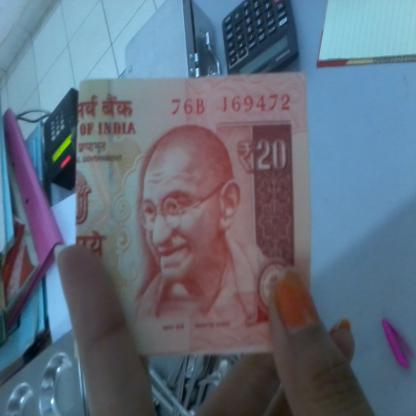Old20Front: (77, 80, 314, 345)
